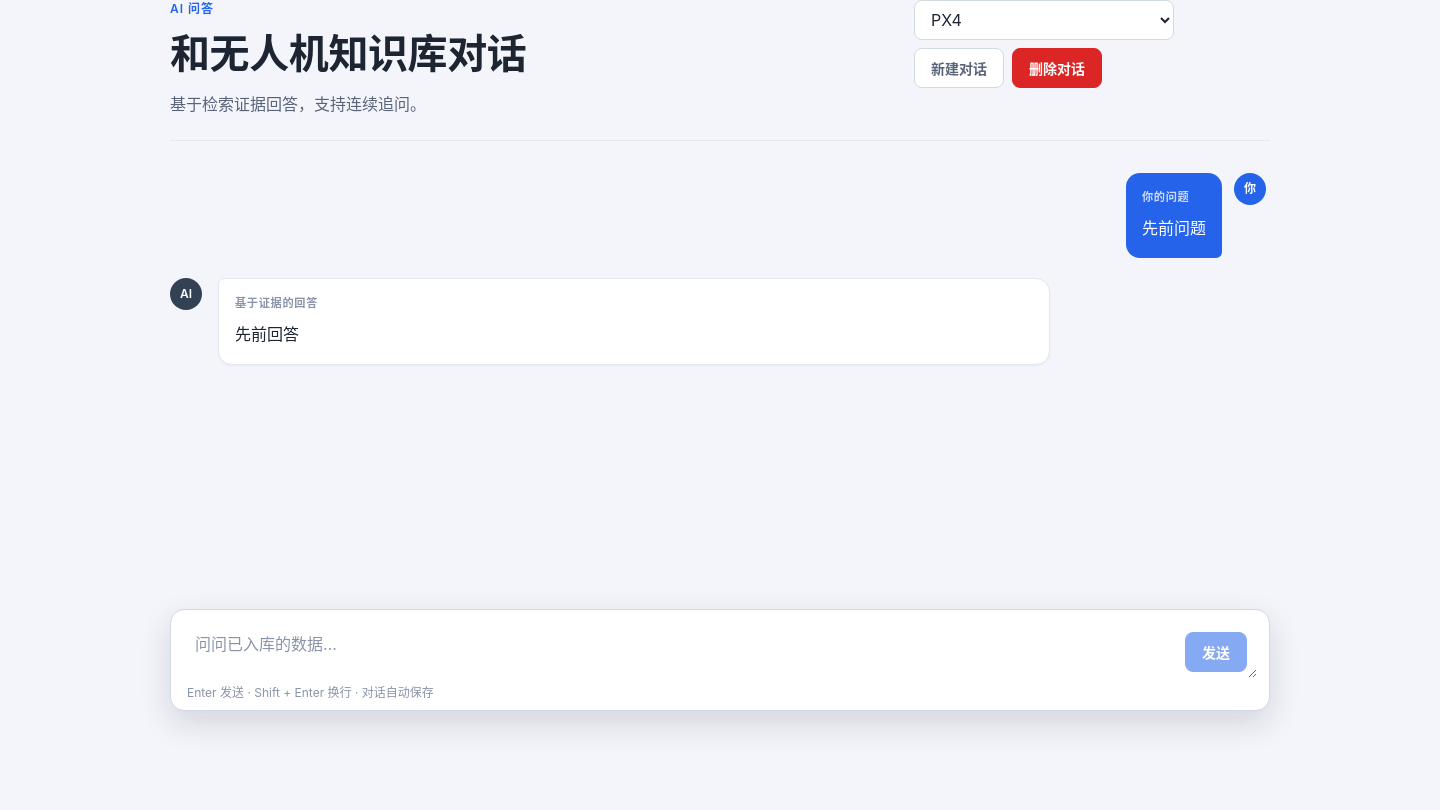
Test case: AI chat streaming and sessions › cancels deletion without changing history
The width and height of the screenshot is (1440, 810).
Expected: the text "先前回答" is shown, x1=235 y1=324 x2=299 y2=344
Click the button "删除对话": (1057, 68) x1=1012 y1=48 x2=1102 y2=88
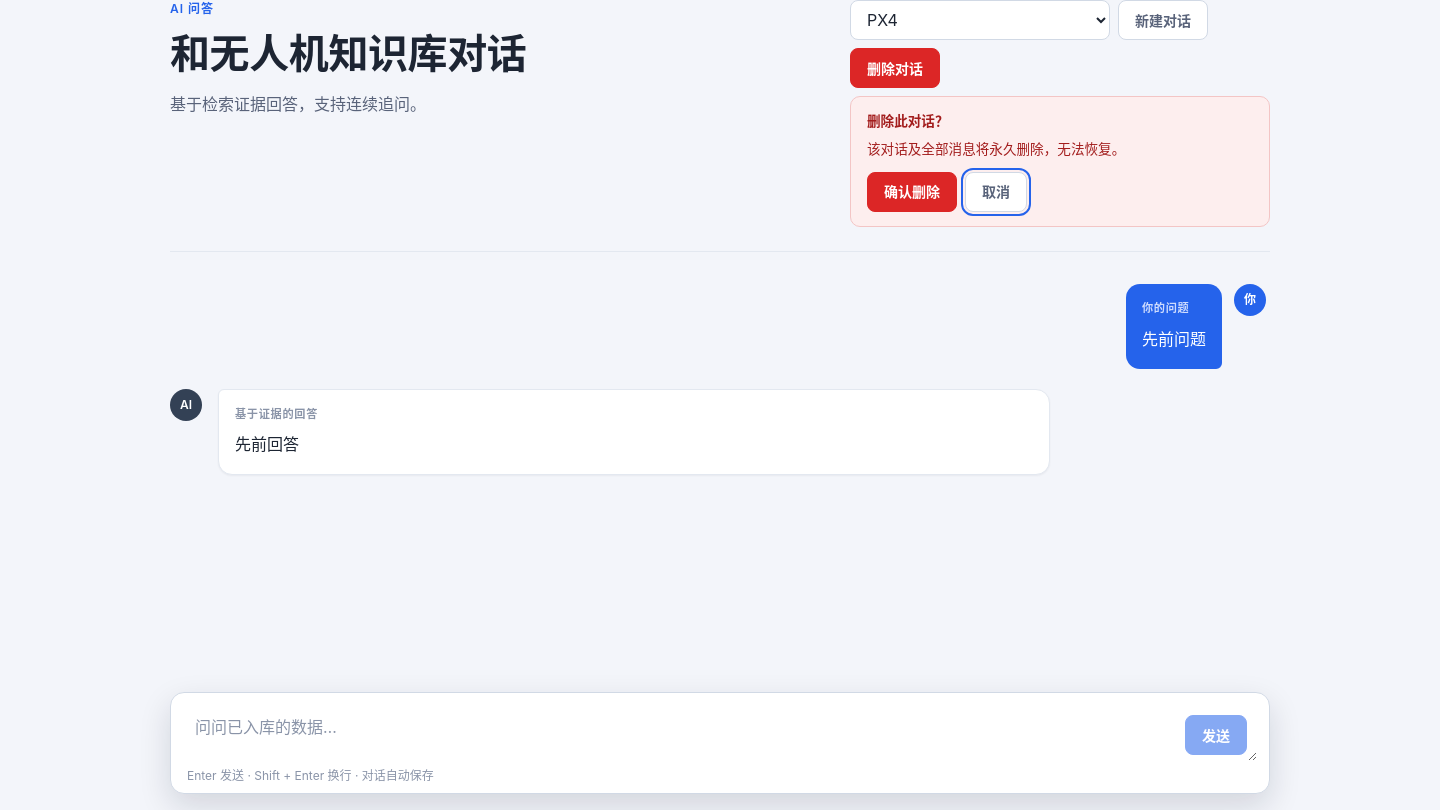
Click the button "取消": (996, 192) x1=965 y1=172 x2=1027 y2=212
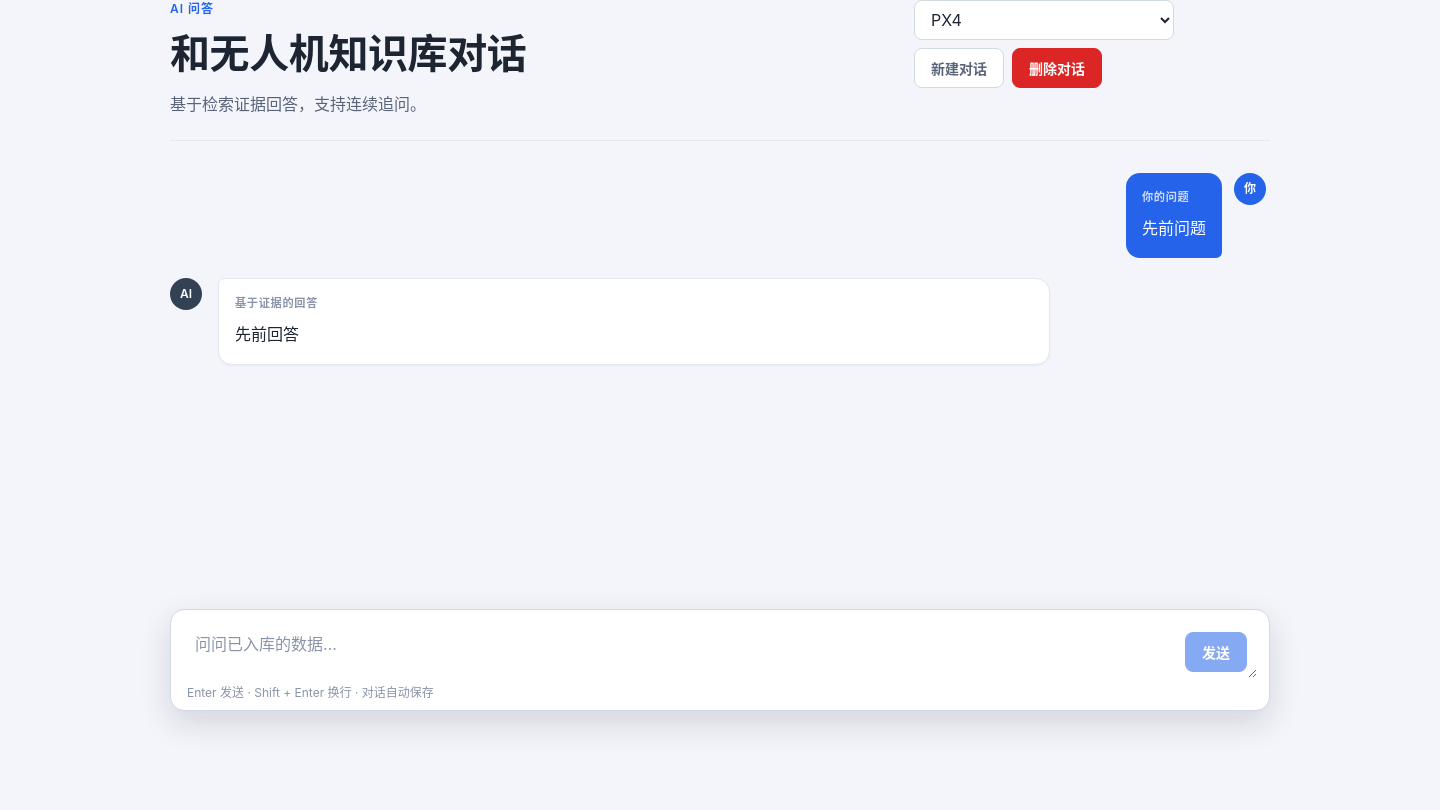
Expected: the text "先前回答" is shown, x1=235 y1=324 x2=299 y2=344
Now the dialog is gone
